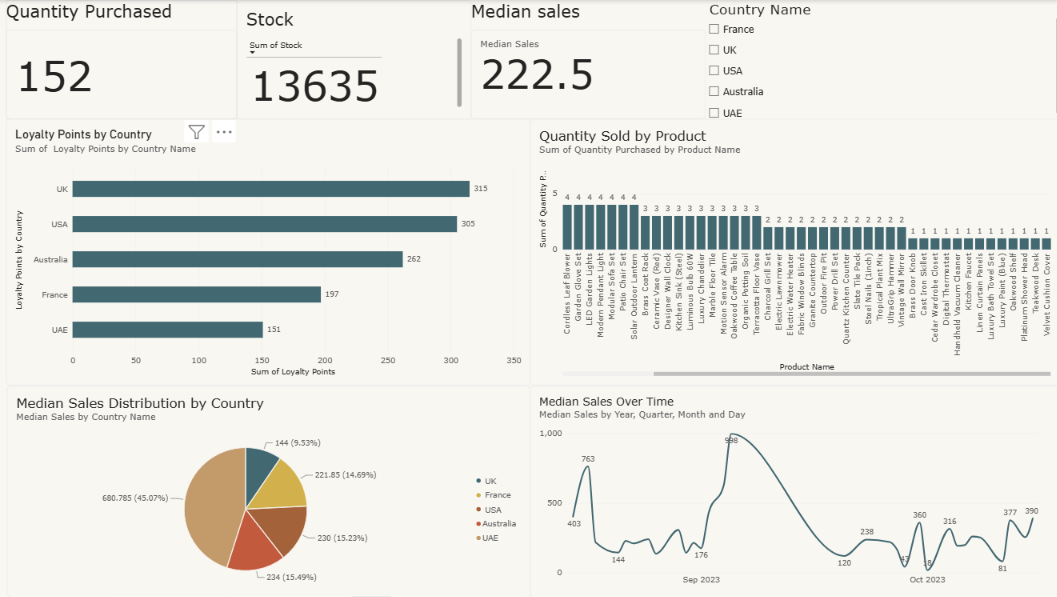

The page's visual inventory and layout, read from the dashboard file:
{"tool":"powerbi","page":{"name":"Sales Overview","canvas":[1920,1080],"ordinal":0},"visuals":[{"type":"clusteredBarChart","title":"Loyalty Points by Country","fields":{"Category":["Sales in USD.Country Name"],"Y":["Sum(Sales in USD. Loyalty Points)"]},"box":[10,216,950,482],"z":0},{"type":"clusteredColumnChart","title":"Quantity Sold by Product","fields":{"Category":["Sales in USD.Product Name"],"Y":["Sum(Sales in USD.Quantity Purchased)"]},"box":[960,216,960,482],"z":1},{"type":"pieChart","title":"Median Sales Distribution by Country","fields":{"Category":["Sales in USD.Country Name"],"Y":["Sales in USD.Median Sales"]},"box":[12,698,948,382],"z":2},{"type":"lineChart","title":"Median Sales Over Time","fields":{"Category":["CalendarTable.Date.Variation.Date Hierarchy.Year","CalendarTable.Date.Variation.Date Hierarchy.Quarter","CalendarTable.Date.Variation.Date Hierarchy.Month","CalendarTable.Date.Variation.Date Hierarchy.Day"],"Y":["Sales in USD.Median Sales"]},"box":[960,698,960,382],"z":3},{"type":"cardVisual","title":"Quantity Purchased","fields":{"Data":["Sum(Sales in USD.Quantity Purchased)"]},"box":[10,0,418,216],"z":4},{"type":"tableEx","title":"Stock","fields":{"Values":["Sum(Sales in USD. Stock  )"]},"box":[428,0,424,216],"z":5},{"type":"cardVisual","title":"Median sales","fields":{"Data":["Sales in USD.Median Sales"]},"box":[852,0,424,216],"z":6},{"type":"slicer","fields":{"Values":["Sales in USD.Country Name"]},"box":[1276,0,644,216],"z":7}]}

Visuals, with their boxes in screenshot pixels (x1, y1, x2, y2), scaled from the page's 1920x1080 canvas onto the 1057x597 screenshot:
"Loyalty Points by Country" clusteredBarChart: BBox(6, 119, 528, 386)
"Quantity Sold by Product" clusteredColumnChart: BBox(528, 119, 1056, 386)
"Median Sales Distribution by Country" pieChart: BBox(7, 386, 528, 596)
"Median Sales Over Time" lineChart: BBox(528, 386, 1056, 596)
"Quantity Purchased" cardVisual: BBox(6, 0, 236, 119)
"Stock" tableEx: BBox(236, 0, 469, 119)
"Median sales" cardVisual: BBox(469, 0, 702, 119)
slicer - Sales in USD.Country Name: BBox(702, 0, 1056, 119)
